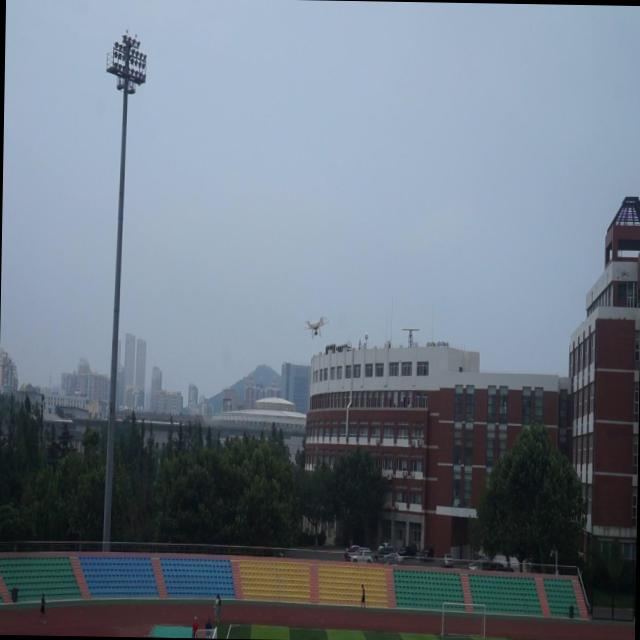drone: (302, 312, 330, 340)
